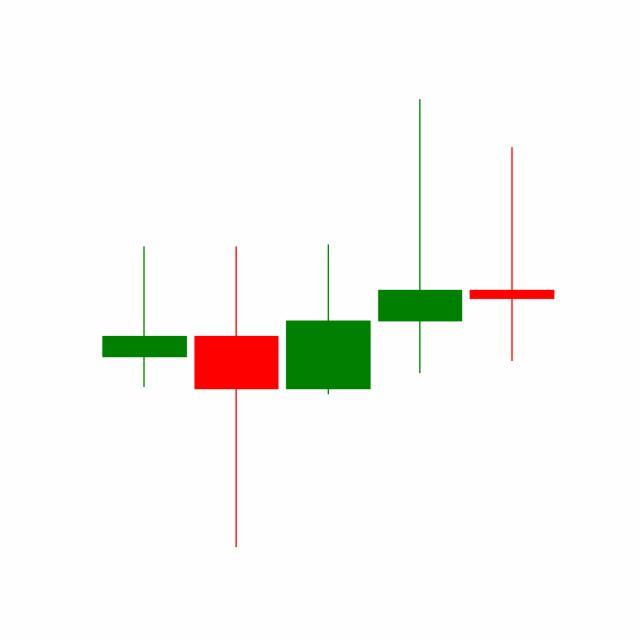Spinning Top: (374, 97, 468, 378)
